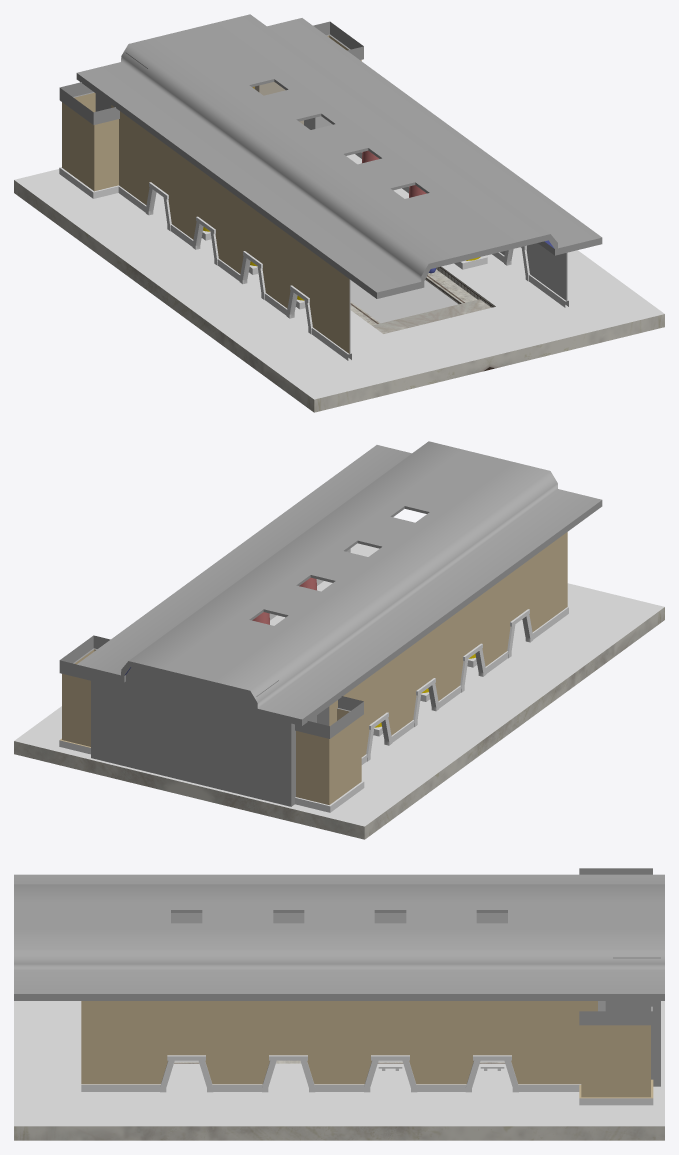
File: entireTemple.fbx
The picture shows the model from 3 angles, top to bottom: view 1: azimuth 30°, elevation 25°; view 2: azimuth 150°, elevation 25°; view 3: azimuth 270°, elevation 25°; orthographic projection. The views are drawn at different scales.
Visible parts, largest first — view 1: roof_mesh, floor_mesh, wall_mesh1, cornerPillar_mesh1, wall_mesh, cornerPillar_mesh; view 2: roof_mesh, floor_mesh, alcove_mesh, wall_mesh1, cornerPillar_mesh1, cornerPillar_mesh; view 3: roof_mesh, floor_mesh, wall_mesh, cornerPillar_mesh, wall_mesh1, alcove_mesh, EntrywayMesh, EntrywayMesh1, EntrywayMesh2, EntrywayMesh3, cornerPillar_mesh1.
Boxes of the visible parts, box(x1,y1,x2,y2) form: roof_mesh: box(76, 14, 602, 298); floor_mesh: box(14, 154, 664, 412); wall_mesh1: box(111, 105, 351, 360); cornerPillar_mesh1: box(59, 82, 119, 198); wall_mesh: box(355, 152, 568, 307); cornerPillar_mesh: box(304, 21, 363, 129); roof_mesh: box(76, 441, 602, 725); floor_mesh: box(14, 543, 664, 839); alcove_mesh: box(91, 667, 316, 806); wall_mesh1: box(328, 532, 568, 764); cornerPillar_mesh1: box(295, 696, 364, 812); cornerPillar_mesh: box(59, 635, 110, 754); roof_mesh: box(14, 874, 664, 1000); floor_mesh: box(14, 1001, 664, 1140); wall_mesh: box(81, 1001, 597, 1091); cornerPillar_mesh: box(579, 1001, 653, 1105); wall_mesh1: box(171, 913, 507, 923); alcove_mesh: box(605, 957, 660, 1086); EntrywayMesh: box(262, 1055, 315, 1092); EntrywayMesh1: box(364, 1055, 417, 1092); EntrywayMesh2: box(465, 1055, 518, 1092); EntrywayMesh3: box(160, 1055, 213, 1092); cornerPillar_mesh1: box(579, 868, 652, 874).
Size of the model in its own units: 56 by 18.47 by 83.02.
